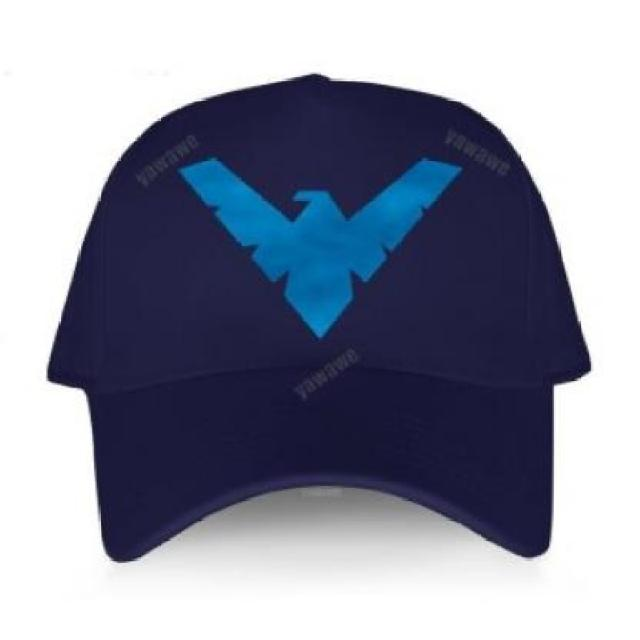hat: (39, 67, 592, 564)
